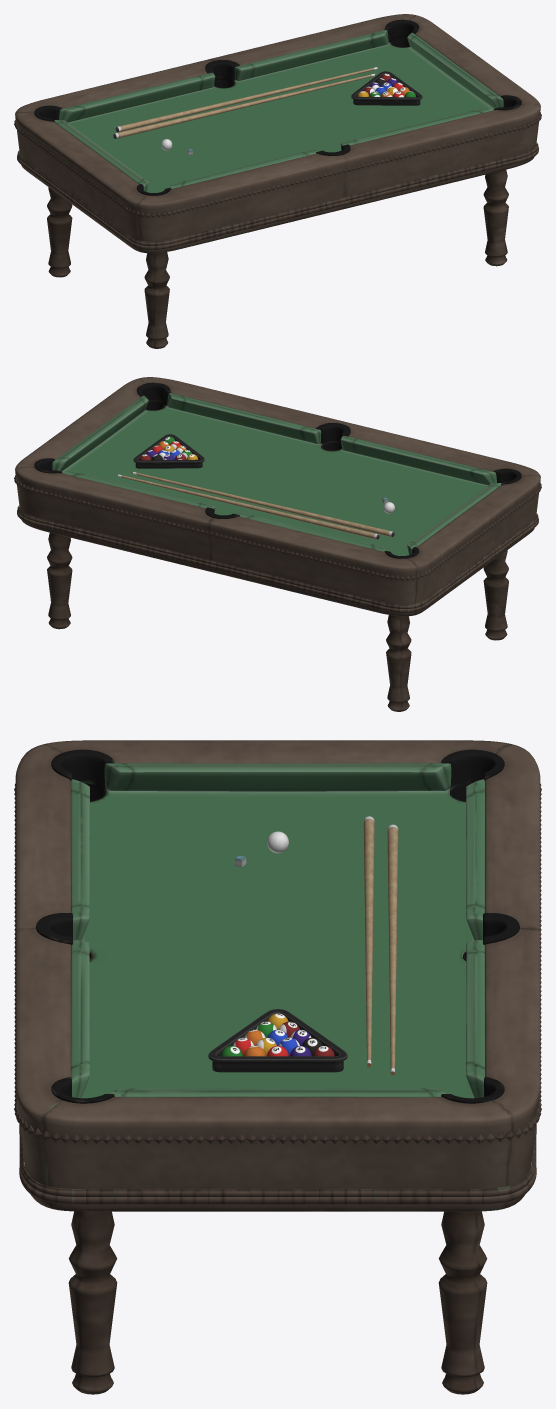
The model's file is billiard table.glb.
3 views of the same model, one above another, from view 1: azimuth 30°, elevation 25°; view 2: azimuth 150°, elevation 25°; view 3: azimuth 270°, elevation 25° (orthographic). The views are drawn at different scales.
Visible parts, largest first — view 1: Pool Table @Mark Peters on Sketchfab_PoolTable_MTL_0 (×2), Pool Cue2 @Mark Peters on Sketchfab_PoolCue_MTL_0, Pool Cue @Mark Peters on Sketchfab_PoolCue_MTL_0, Ball Rack @Mark Peters on Sketchfab_BallRack_MTL_0; view 2: Pool Table @Mark Peters on Sketchfab_PoolTable_MTL_0 (×2), Pool Cue @Mark Peters on Sketchfab_PoolCue_MTL_0, Pool Cue2 @Mark Peters on Sketchfab_PoolCue_MTL_0, Ball Rack @Mark Peters on Sketchfab_BallRack_MTL_0; view 3: Pool Table @Mark Peters on Sketchfab_PoolTable_MTL_0 (×2), Ball Rack @Mark Peters on Sketchfab_BallRack_MTL_0, Pool Cue2 @Mark Peters on Sketchfab_PoolCue_MTL_0, Pool Cue @Mark Peters on Sketchfab_PoolCue_MTL_0.
Boxes of the visible parts, left/top/right/bottom form: Pool Table @Mark Peters on Sketchfab_PoolTable_MTL_0 (×2): left=14, top=14, right=541, bottom=348; Pool Cue2 @Mark Peters on Sketchfab_PoolCue_MTL_0: left=115, top=67, right=377, bottom=132; Pool Cue @Mark Peters on Sketchfab_PoolCue_MTL_0: left=113, top=73, right=375, bottom=138; Ball Rack @Mark Peters on Sketchfab_BallRack_MTL_0: left=351, top=71, right=422, bottom=105; Pool Table @Mark Peters on Sketchfab_PoolTable_MTL_0 (×2): left=14, top=377, right=541, bottom=711; Pool Cue @Mark Peters on Sketchfab_PoolCue_MTL_0: left=132, top=472, right=394, bottom=537; Pool Cue2 @Mark Peters on Sketchfab_PoolCue_MTL_0: left=117, top=474, right=379, bottom=539; Ball Rack @Mark Peters on Sketchfab_BallRack_MTL_0: left=133, top=434, right=204, bottom=468; Pool Table @Mark Peters on Sketchfab_PoolTable_MTL_0 (×2): left=14, top=740, right=541, bottom=1394; Ball Rack @Mark Peters on Sketchfab_BallRack_MTL_0: left=208, top=1009, right=347, bottom=1072; Pool Cue2 @Mark Peters on Sketchfab_PoolCue_MTL_0: left=387, top=824, right=398, bottom=1075; Pool Cue @Mark Peters on Sketchfab_PoolCue_MTL_0: left=363, top=816, right=374, bottom=1067.
Bounding box in the file's own units: 2.36 × 0.8809 × 1.38.
20 materials, 20 textured.
